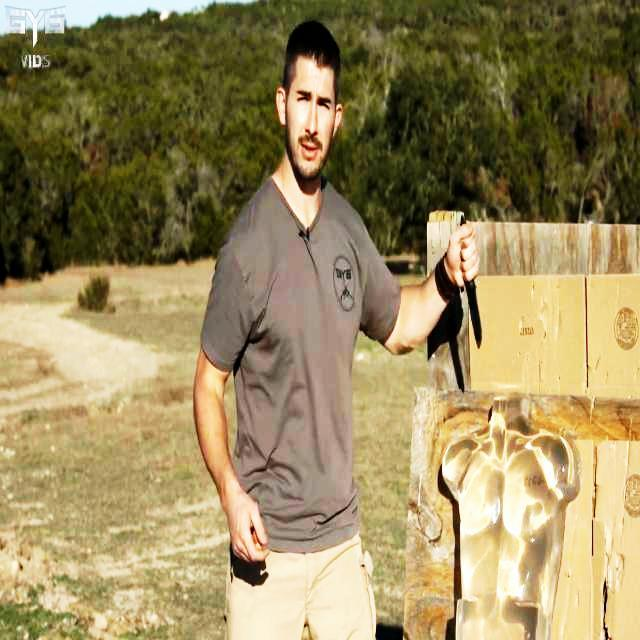Knife: (440, 229, 505, 360)
